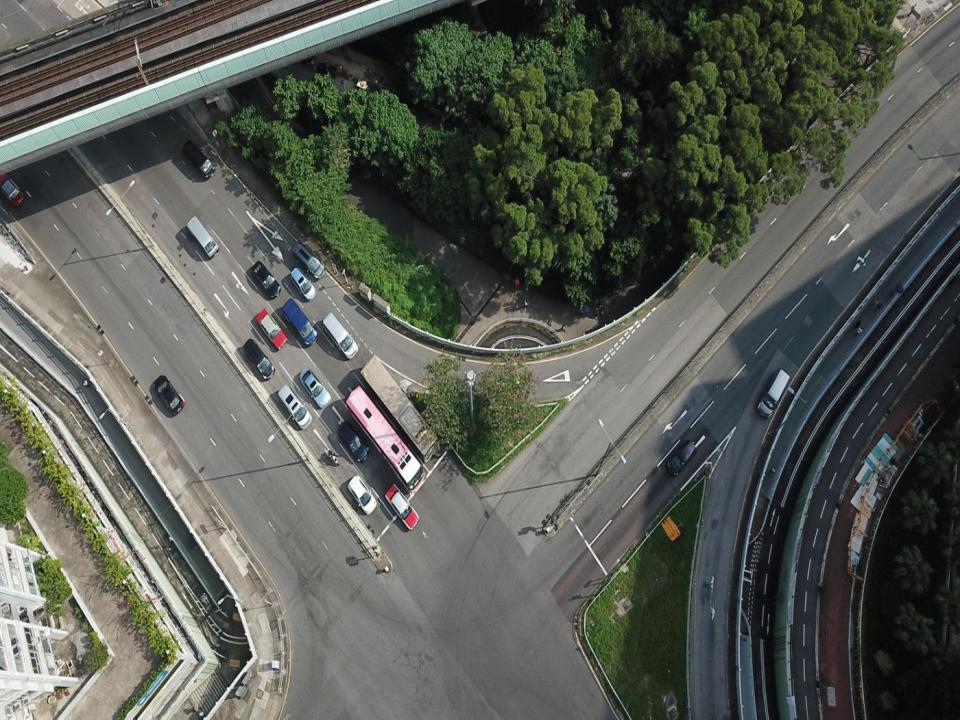bus: (345, 384, 426, 494), (360, 355, 440, 463)
car: (384, 482, 420, 531), (277, 384, 313, 429), (255, 307, 289, 350), (242, 338, 276, 380), (338, 420, 370, 464), (300, 368, 331, 410), (153, 374, 184, 416), (251, 260, 282, 300), (347, 474, 377, 514), (668, 438, 698, 476), (290, 266, 318, 302)
van: (282, 297, 318, 347), (756, 368, 791, 419), (322, 312, 359, 360), (186, 214, 220, 258), (182, 139, 216, 180), (292, 241, 325, 280)
